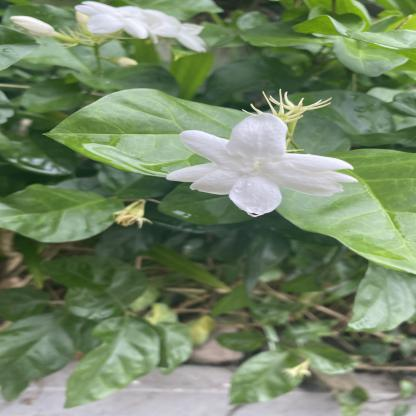Melati: (145, 108, 380, 229)
